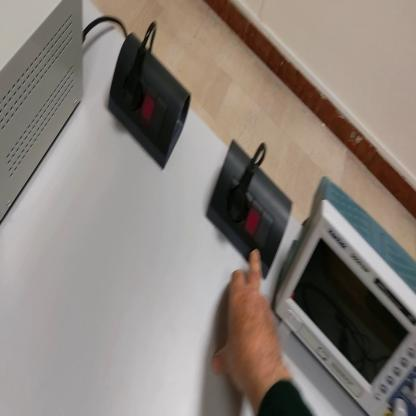hand: (213, 247, 286, 398)
oscilloscope: (274, 174, 416, 416)
power supply: (2, 3, 86, 225)
socket: (210, 137, 298, 279), (108, 36, 193, 172)
